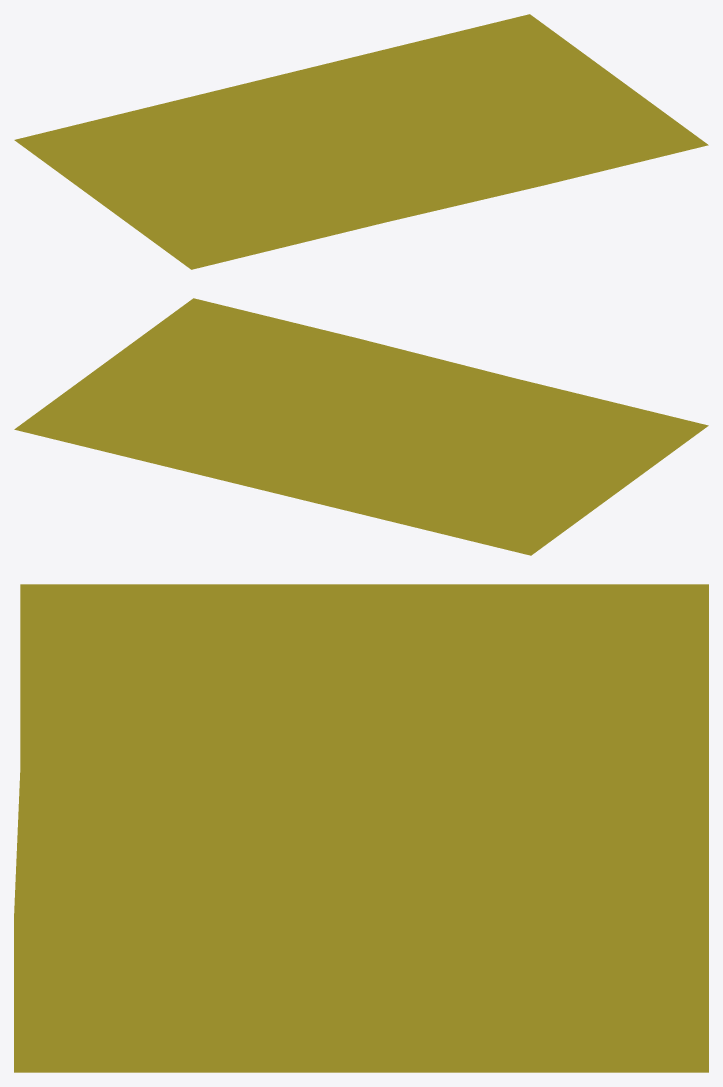
File: ceiling_mud.fbx
3 renders of one model, top to bottom at view 1: azimuth 30°, elevation 25°; view 2: azimuth 150°, elevation 25°; view 3: azimuth 270°, elevation 25°, orthographic. The views are drawn at different scales.
Parts seen in each view (by area): view 1: ceiling_mud; view 2: ceiling_mud; view 3: ceiling_mud.
Boxes of the visible parts, box(x1,y1,x2,y2) form: ceiling_mud: box(14, 14, 708, 269); ceiling_mud: box(14, 298, 708, 555); ceiling_mud: box(14, 584, 708, 1072).
Size of the model in its own units: 967 by 1.14e-13 by 582.
